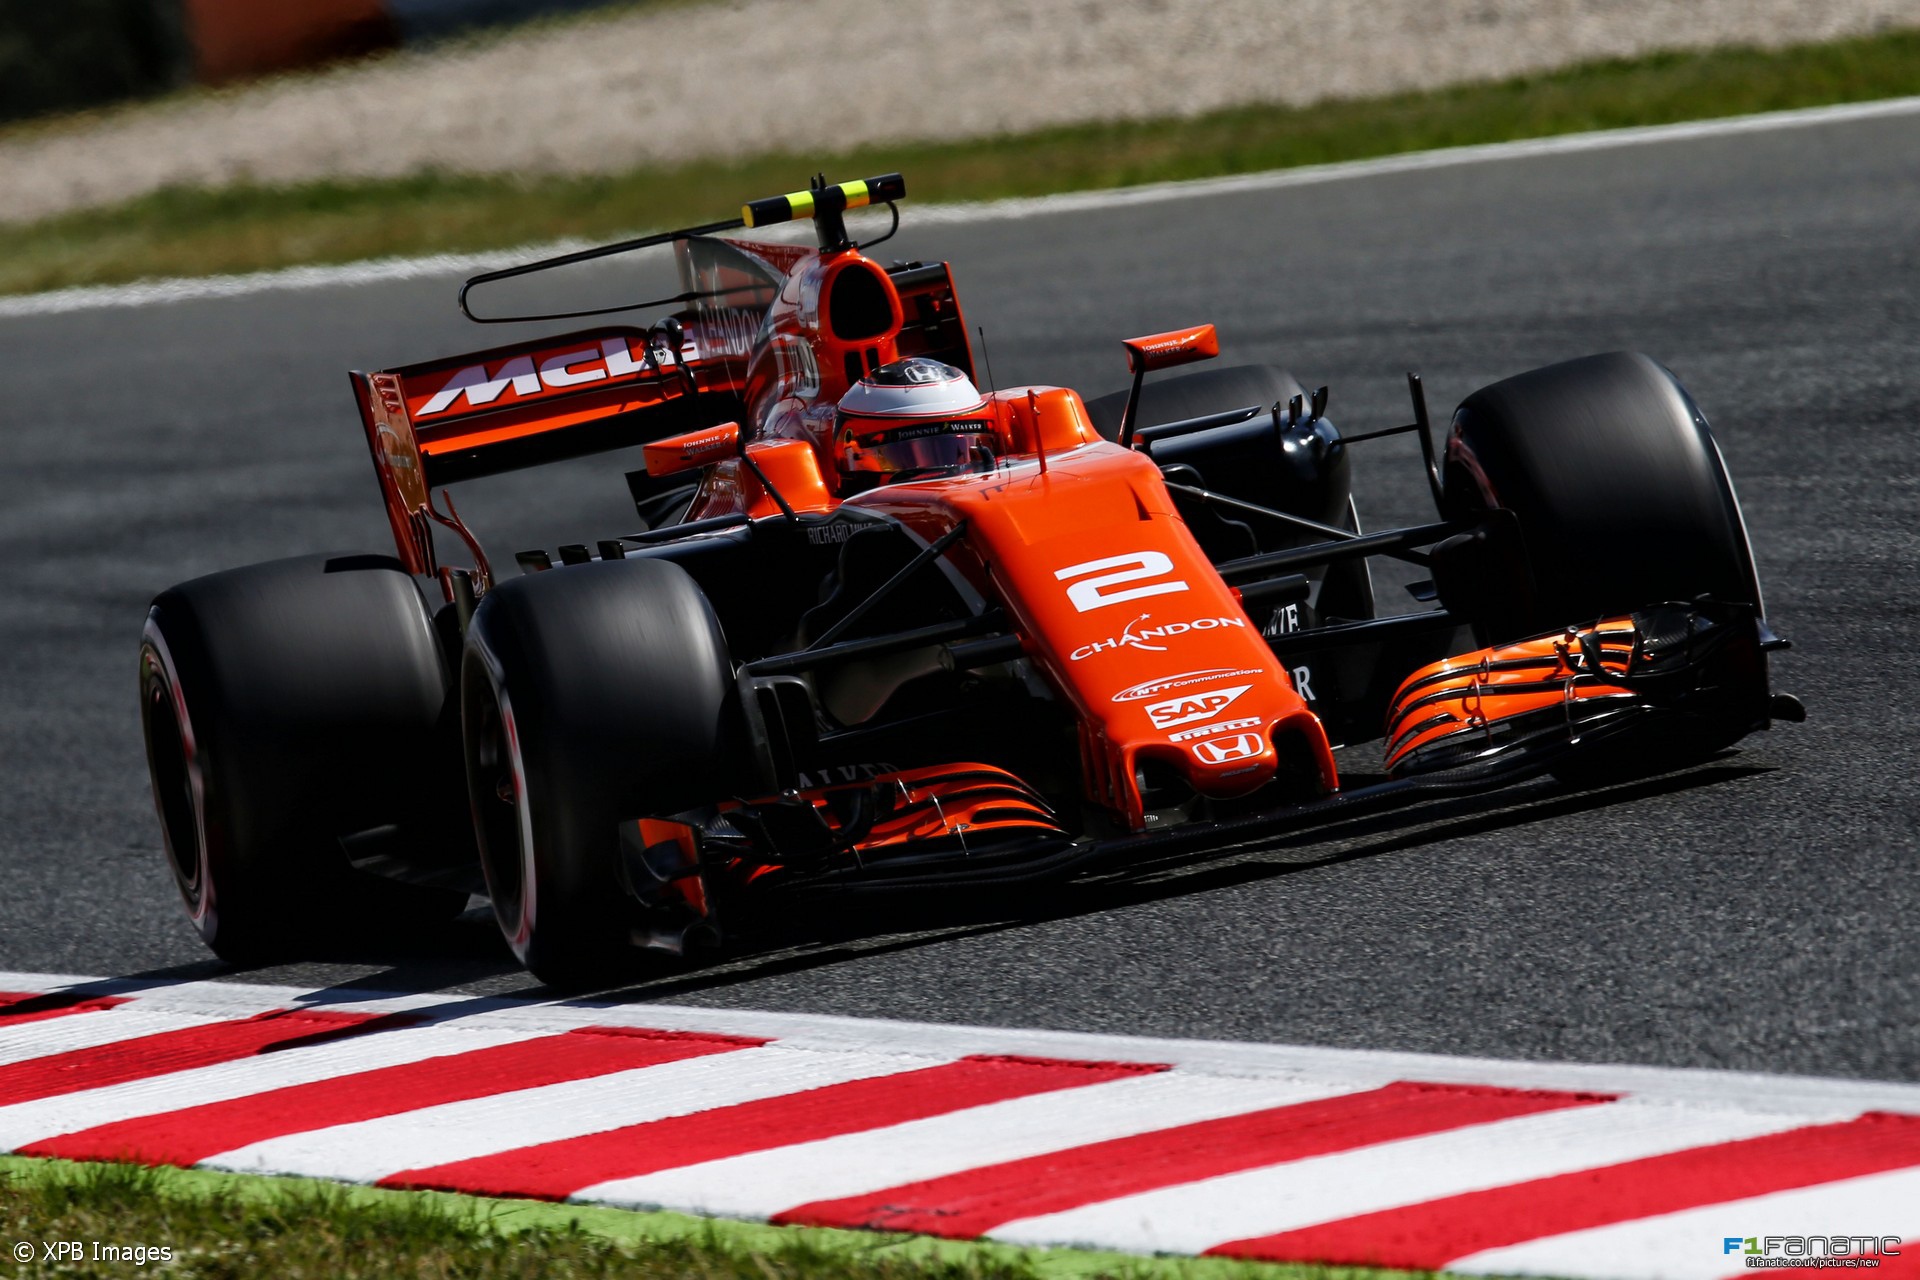F1 Car: (123, 143, 1814, 1003)
